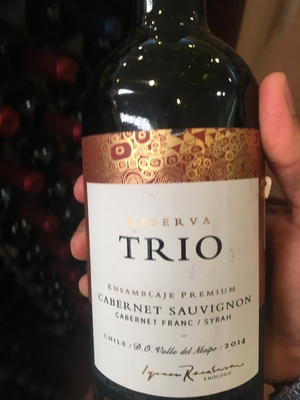trio cabernet sauvignon: (73, 1, 276, 400)
